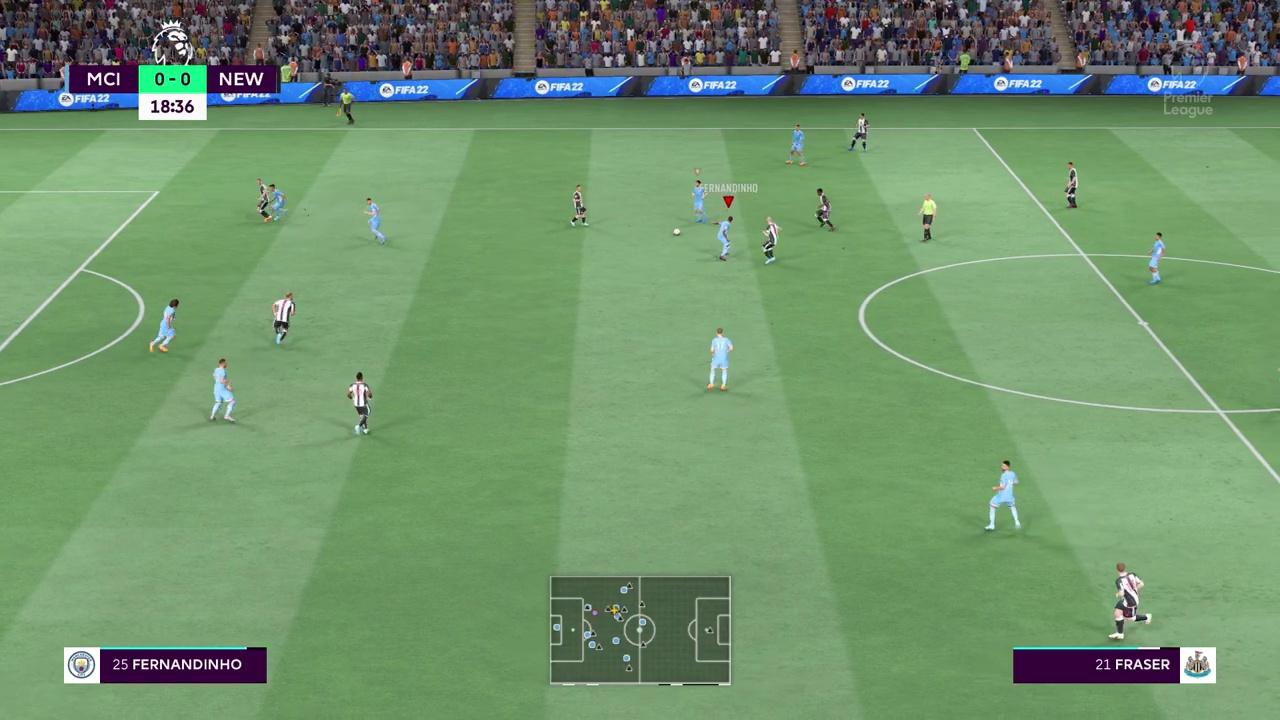scoreboard: (62, 65, 279, 94)
timestamp: (140, 96, 205, 119)
